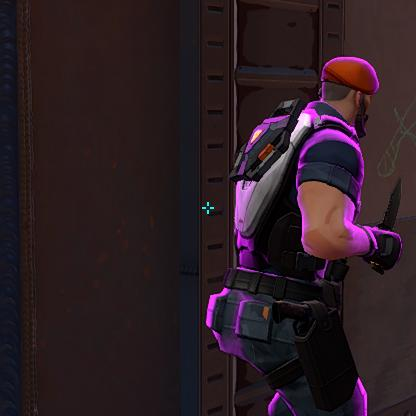enemyBody: (253, 151, 337, 276)
enemyHead: (327, 67, 369, 134)
